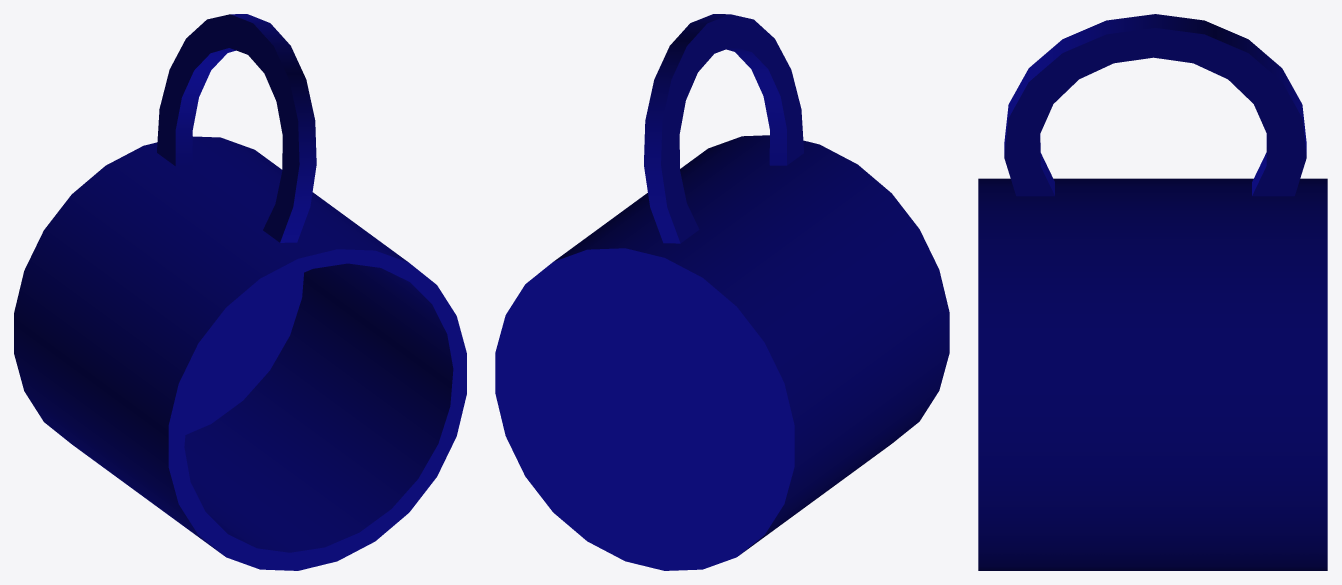
The model's file is model_align.obj.
3 renders of one model, left to right at view 1: azimuth 30°, elevation 25°; view 2: azimuth 150°, elevation 25°; view 3: azimuth 270°, elevation 25°, orthographic. The views are drawn at different scales.
Visible parts, largest first — view 1: mesh1_mesh1-geometry, mesh2_mesh2-geometry; view 2: mesh1_mesh1-geometry, mesh2_mesh2-geometry; view 3: mesh1_mesh1-geometry, mesh2_mesh2-geometry.
Part boxes in pixels (left/top/right/bottom): mesh1_mesh1-geometry: left=14, top=136, right=466, bottom=570; mesh2_mesh2-geometry: left=157, top=14, right=316, bottom=242; mesh1_mesh1-geometry: left=495, top=135, right=949, bottom=570; mesh2_mesh2-geometry: left=644, top=14, right=803, bottom=243; mesh1_mesh1-geometry: left=978, top=178, right=1327, bottom=570; mesh2_mesh2-geometry: left=1004, top=14, right=1306, bottom=196.
Bounding box in the file's own units: 0.0908 × 0.1401 × 0.0814.
